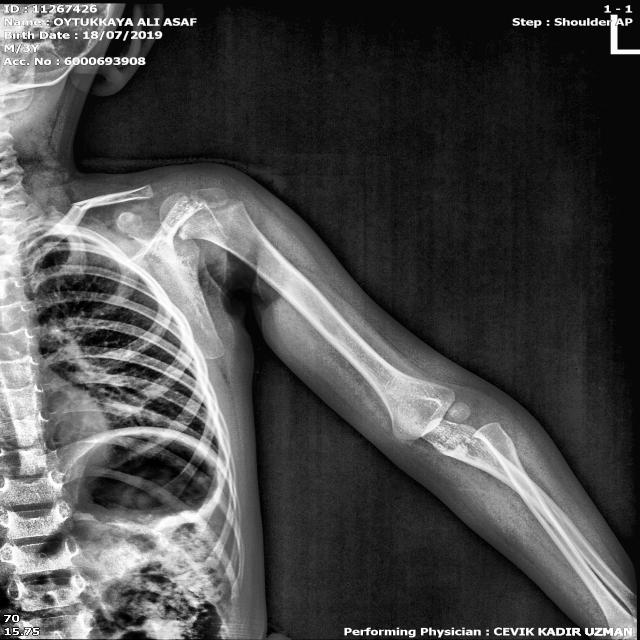Fracture: (63, 197, 97, 220)
